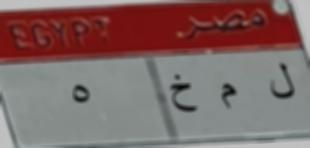5: (69, 80, 96, 106)
khaa: (166, 69, 199, 120)
laam: (265, 58, 296, 104)
meem: (215, 78, 240, 112)
